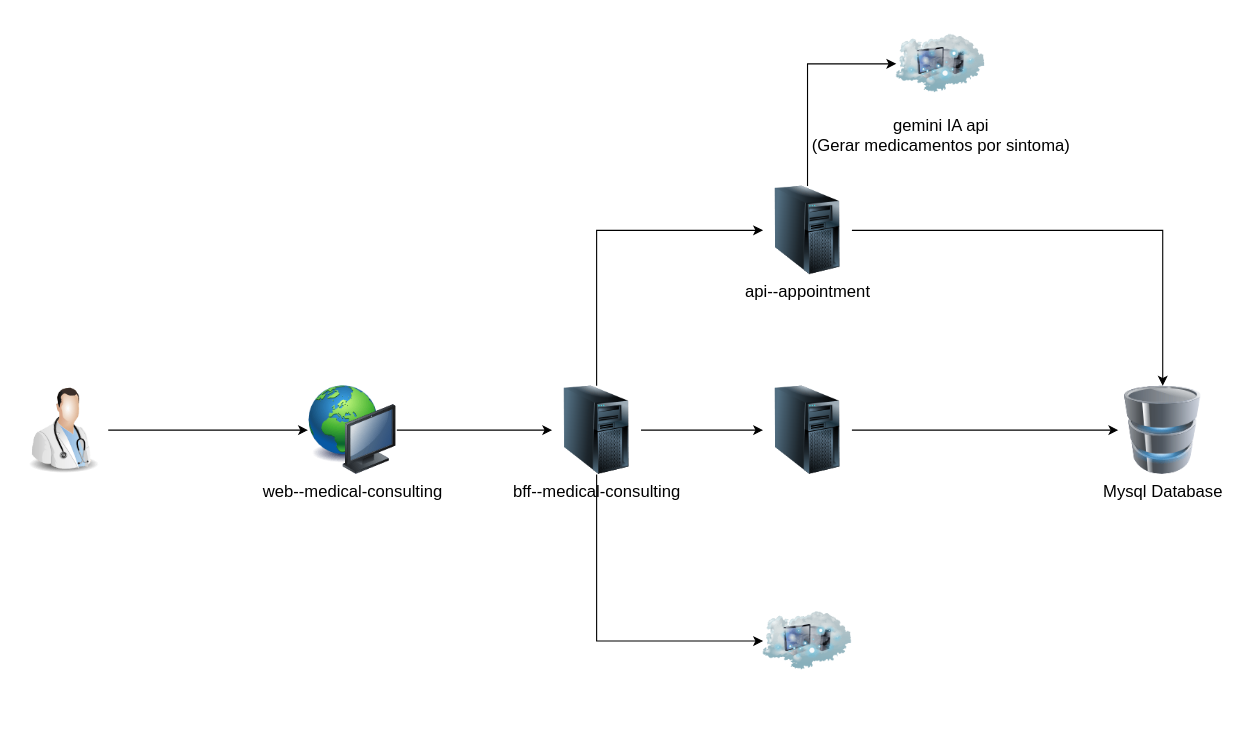
Image size: 1241x751. Some labels were removed from this diagram. The shapes that lost their labels are listed below. From the top down, each one's centre as x and y in pixels, then its label:
At (x=63, y=429): "Doctor User".
At (x=807, y=429): "api--patient".
At (x=807, y=640): "viacep api (Consulta de CEP)".
